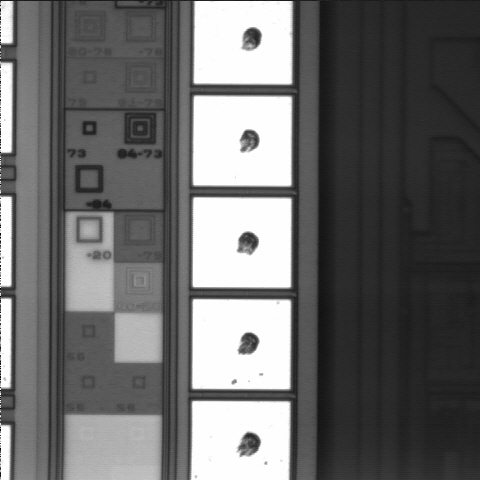pad: (193, 197, 291, 288), (193, 96, 292, 186), (192, 299, 291, 389)
